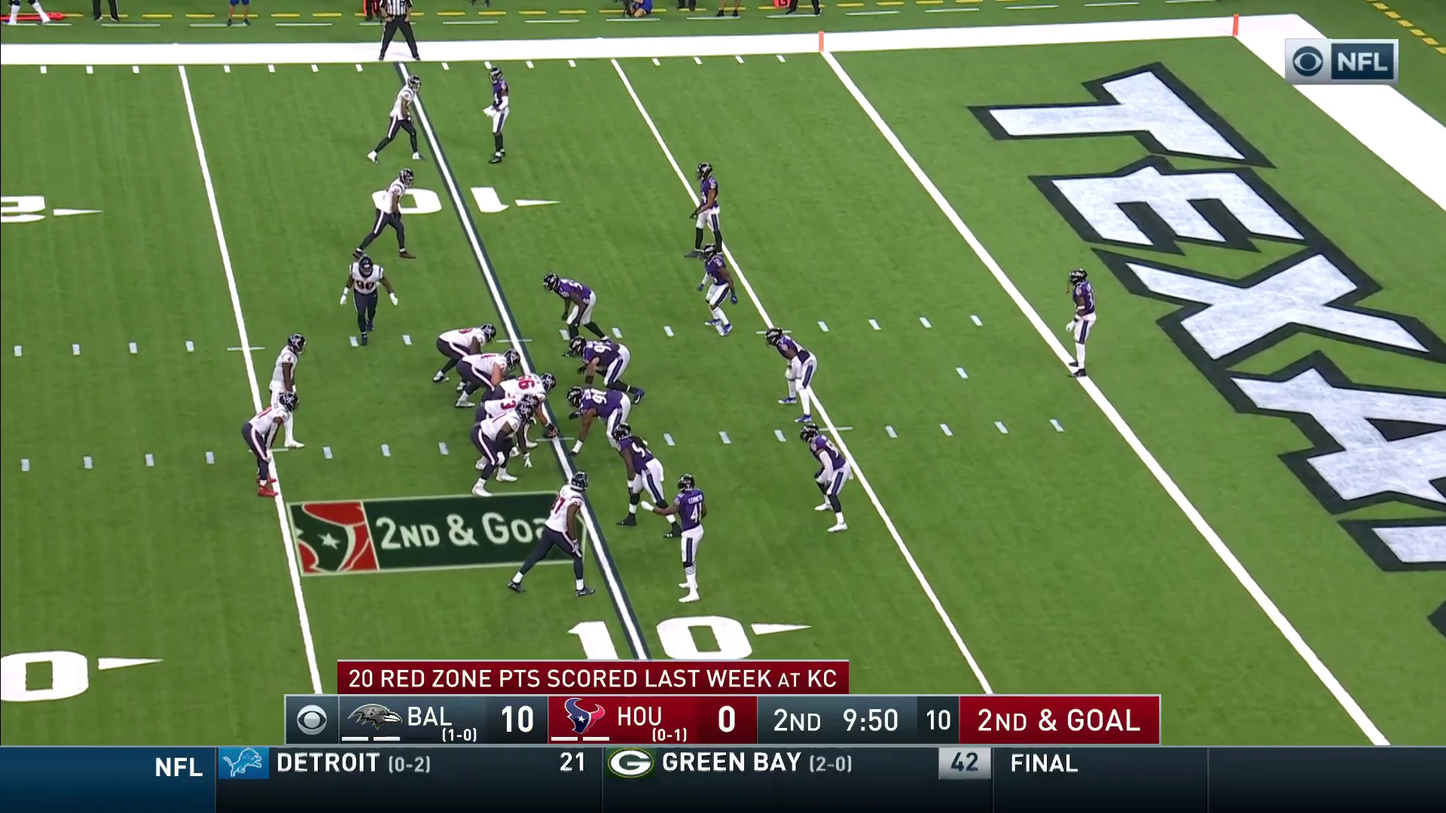Player: (472, 392, 528, 492), (489, 374, 551, 447), (673, 473, 705, 602), (269, 332, 304, 444), (570, 385, 632, 448), (568, 334, 630, 388), (701, 243, 736, 335), (694, 162, 720, 246)
